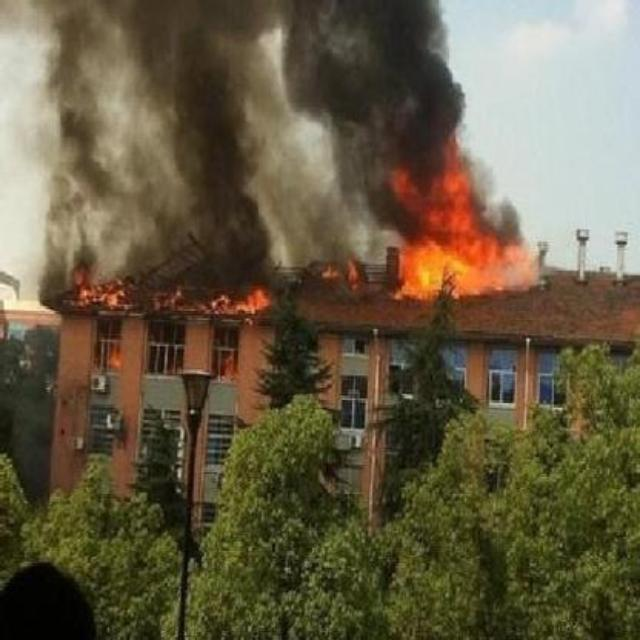Fire: (378, 136, 546, 296), (72, 260, 272, 306), (212, 344, 244, 381), (351, 252, 365, 298), (109, 339, 128, 371)
Smoke: (18, 7, 370, 250), (372, 2, 462, 136)
